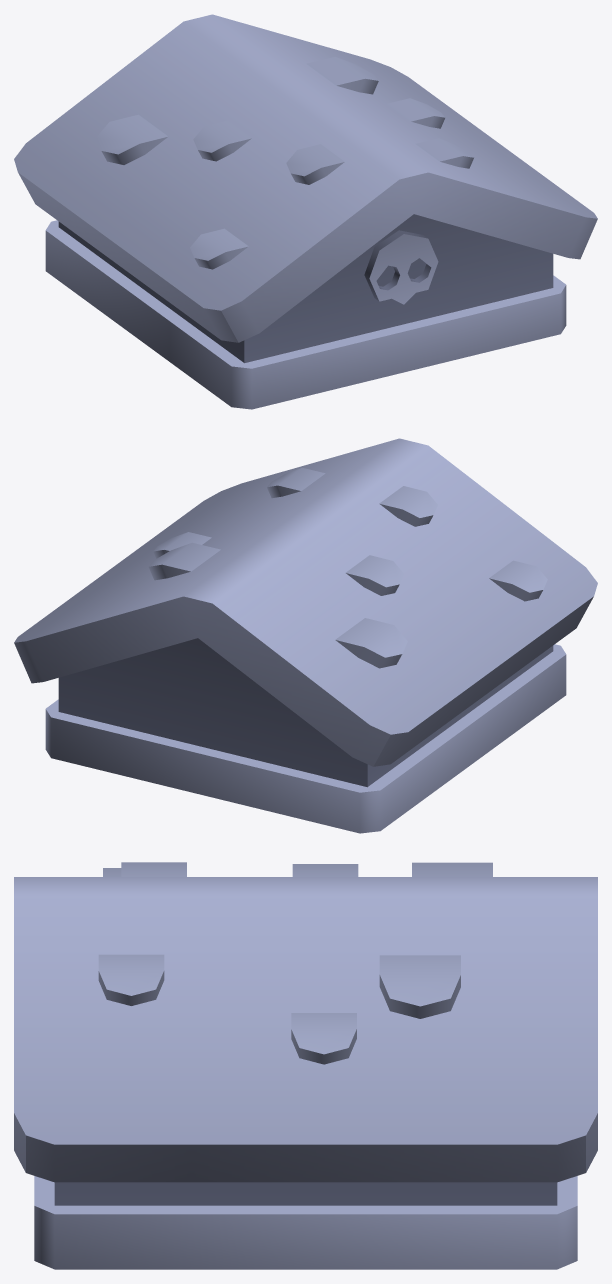
Rendered from crypt-small-roof_lev2.glb.
3 renders of one model, top to bottom at view 1: azimuth 30°, elevation 25°; view 2: azimuth 150°, elevation 25°; view 3: azimuth 270°, elevation 25°, orthographic. The views are drawn at different scales.
Parts seen in each view (by area): view 1: crypt-small-roof_lev2; view 2: crypt-small-roof_lev2; view 3: crypt-small-roof_lev2.
Boxes of the visible parts, x1,y1,x2,y2 form: crypt-small-roof_lev2: (14, 14, 597, 409); crypt-small-roof_lev2: (14, 438, 597, 833); crypt-small-roof_lev2: (14, 862, 597, 1269).
Size of the model in its own units: 12.01 by 5.92 by 11.5.
Materials: 1 (1 with a texture image).
